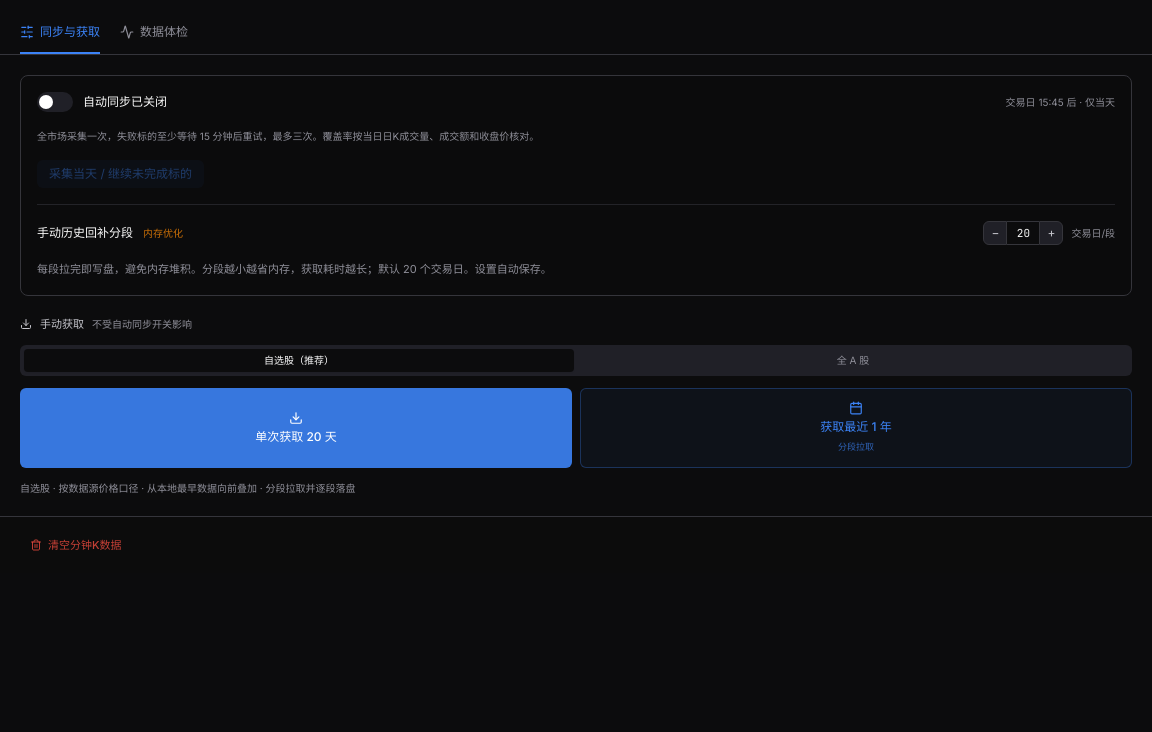
Test: 批量启动期间禁用重复操作, 失败后显示原因并恢复按钮
This screenshot has width=1152, height=732.
Click the tab "数据体检". click: (154, 33)
box: x1=120 y1=12 x2=188 y2=54
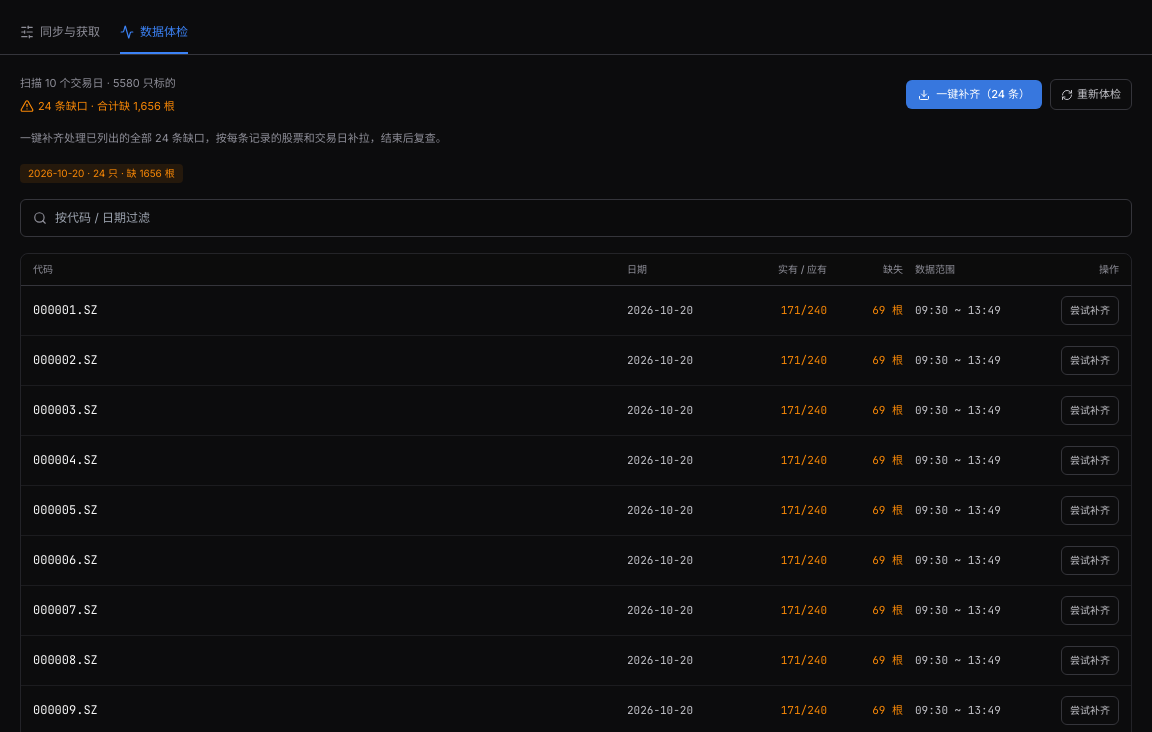
Now the button "一键补齐（24 条）" is shown
Click the button "一键补齐（24 条）". click: (974, 95)
box: x1=906 y1=80 x2=1042 y2=109
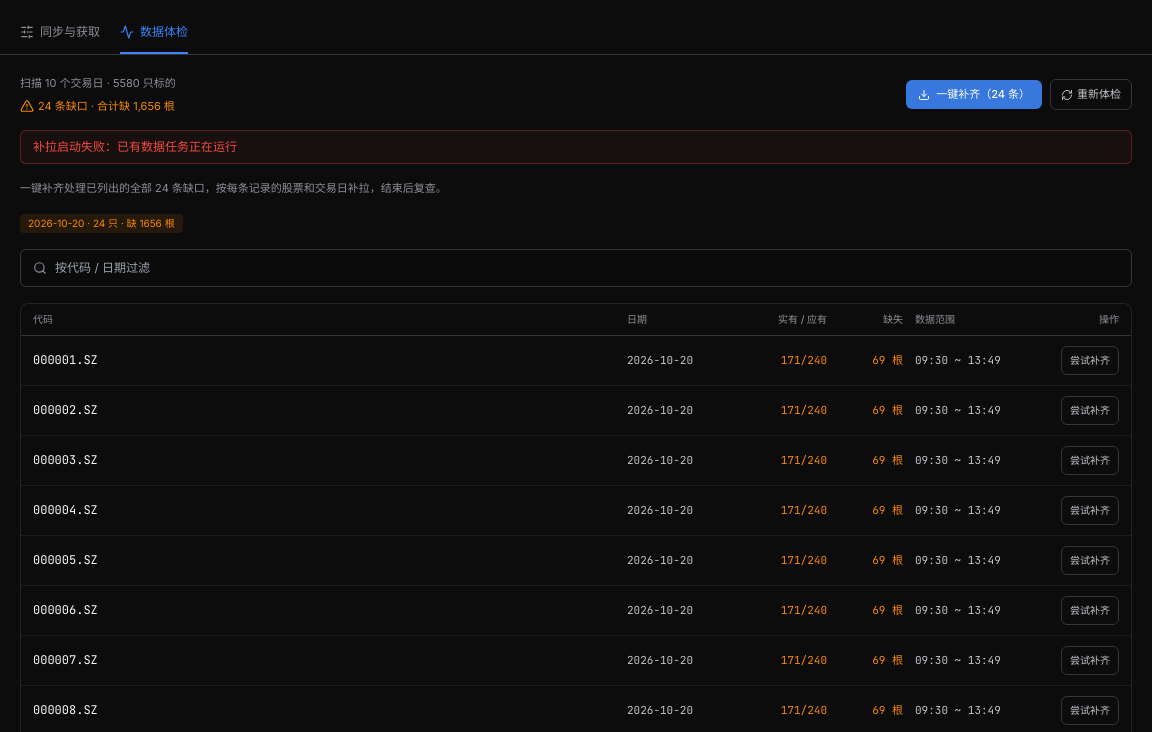
Now the message "补拉启动失败：已有数据任务正在运行" is shown, box x1=20 y1=130 x2=1132 y2=164
